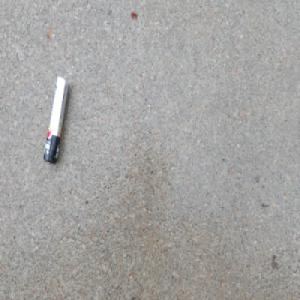Battery: (42, 74, 71, 166)
